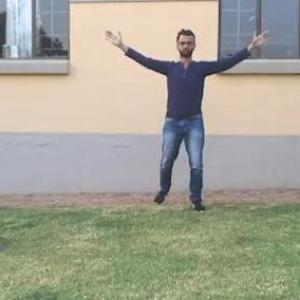takeoff: (103, 21, 274, 214)
